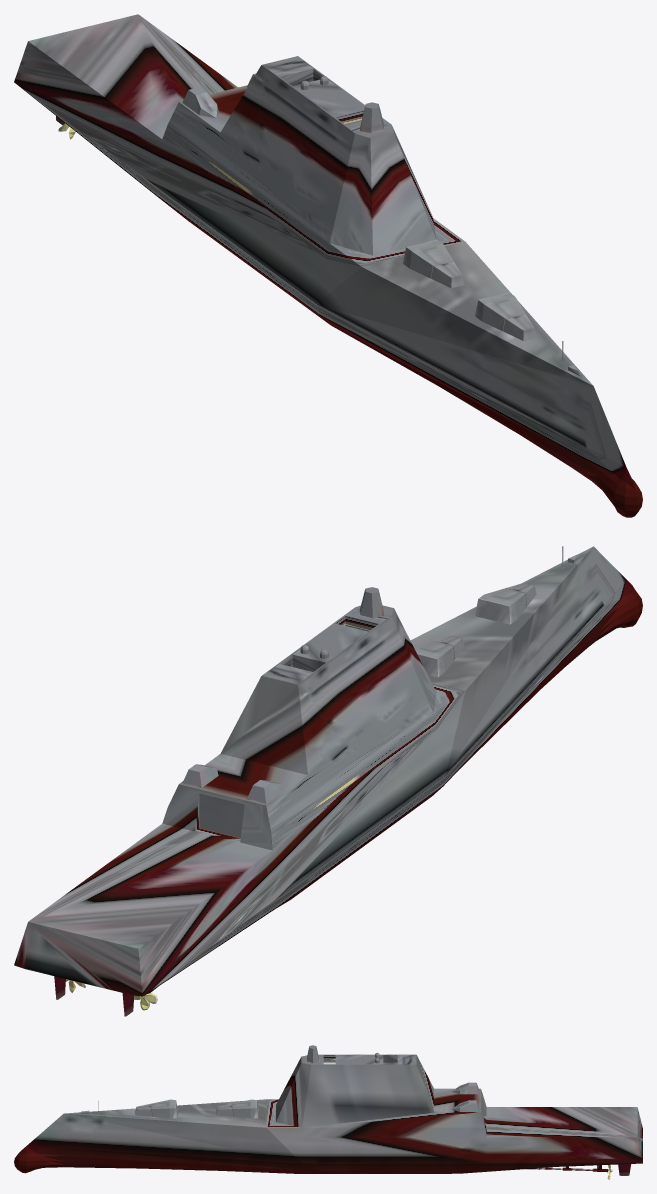
3 views of the same model, one above another, from view 1: azimuth 30°, elevation 25°; view 2: azimuth 150°, elevation 25°; view 3: azimuth 270°, elevation 25° (orthographic). The views are drawn at different scales.
Parts seen in each view (by area): view 1: Hull_0; view 2: Hull_0; view 3: Hull_0.
Boxes of the visible parts, x1,y1,x2,y2 form: Hull_0: [14, 14, 642, 517]; Hull_0: [14, 546, 642, 1016]; Hull_0: [14, 1045, 642, 1179].
Size of the model in its own units: 3.52 by 5.84 by 26.48.
Materials: 1 (1 with a texture image).
